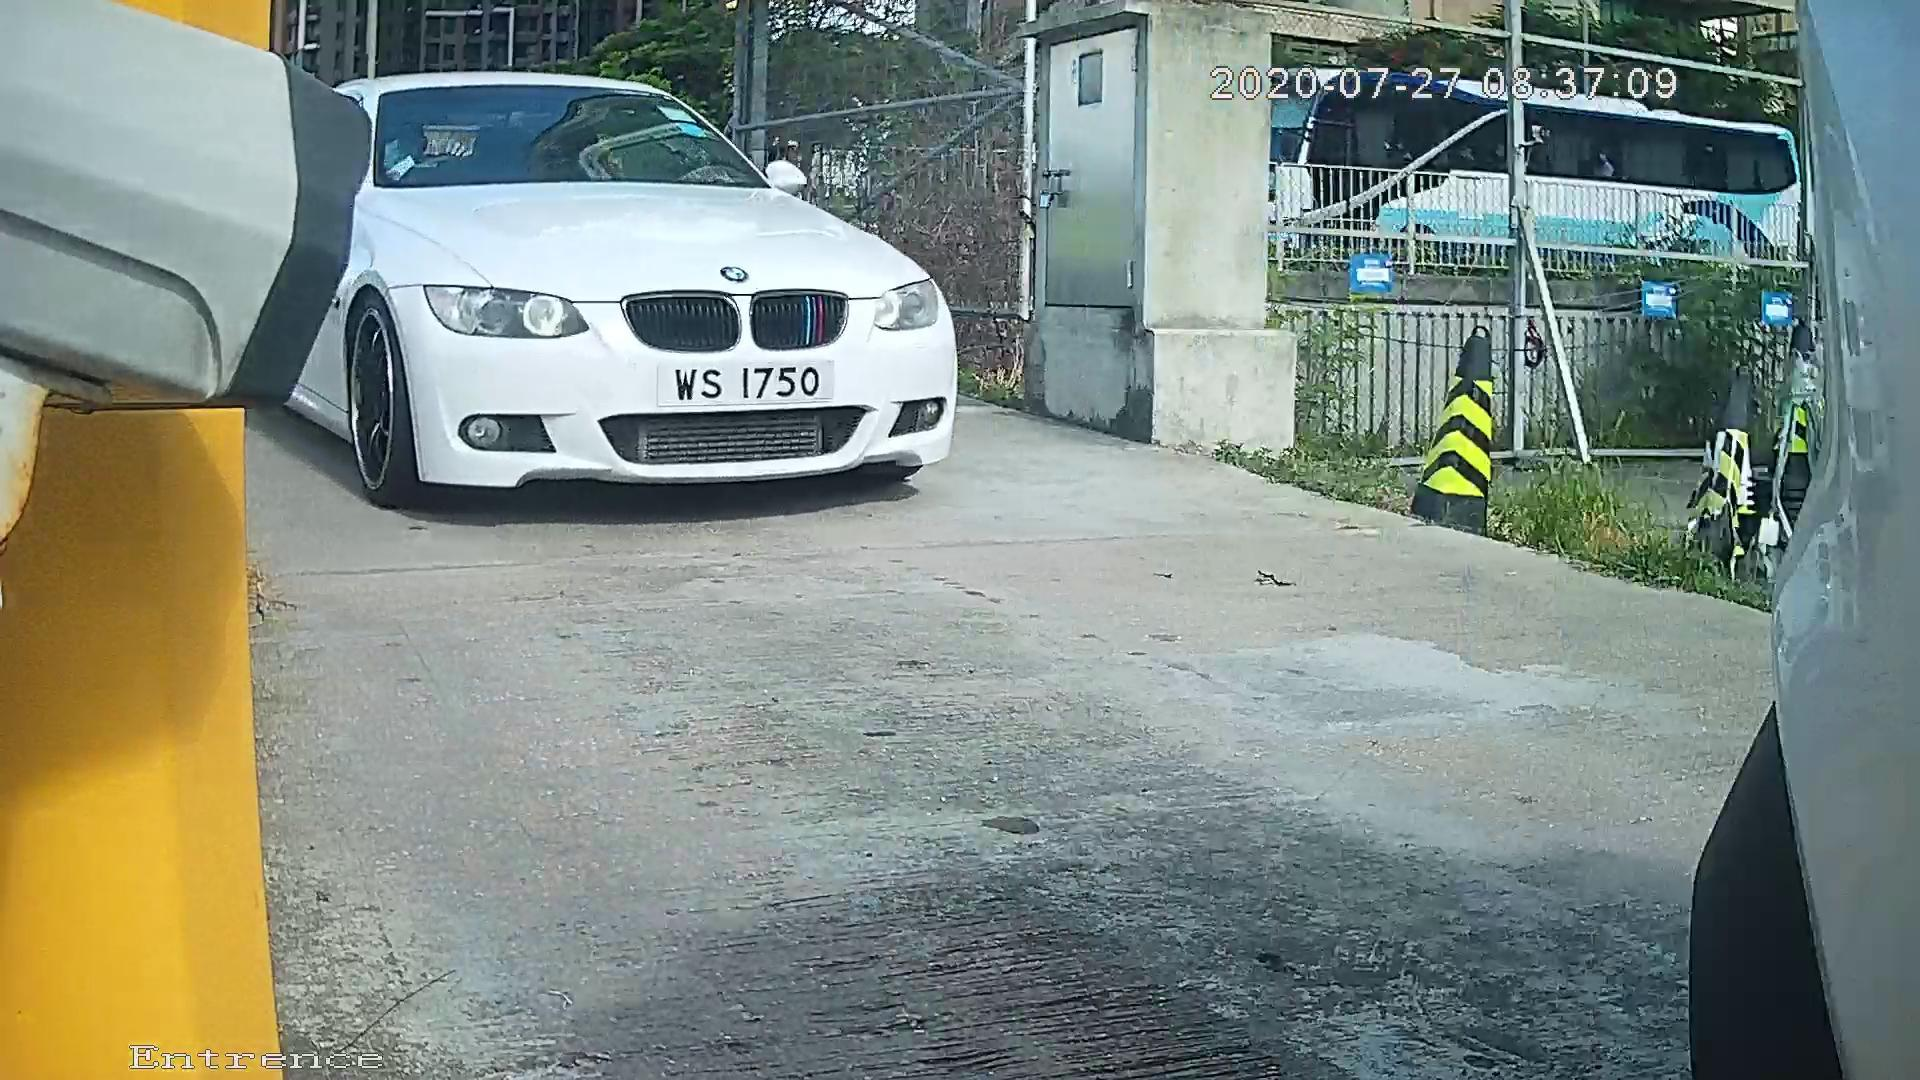License Plate: (631, 332, 848, 437)
